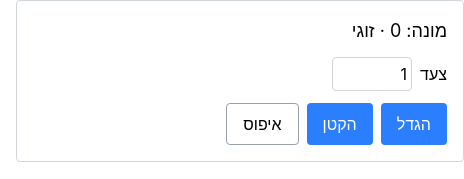
Test: reset returns the counter to its initial state
Click the button "הגדל".
click(414, 124)  # box [381,103,447,145]
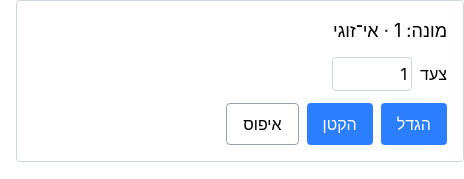
Click the button "איפוס".
click(262, 124)  # box [226,103,299,145]
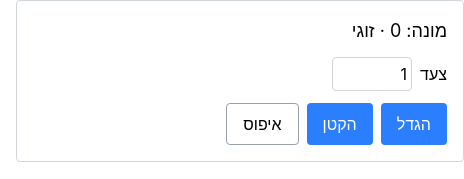
Now the text "מונה: 0 · זוגי" is shown, box [352,20,447,41]
